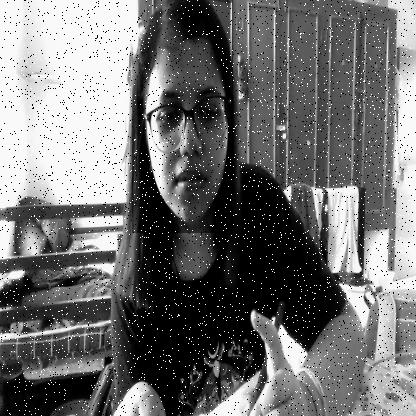Normal: (132, 0, 233, 233)
